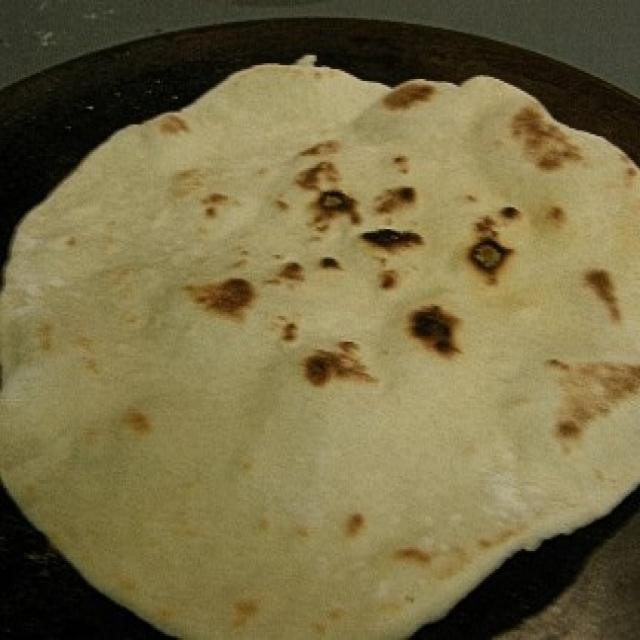面包点心: (6, 32, 633, 620)
